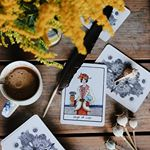cups: (1, 59, 45, 120)
